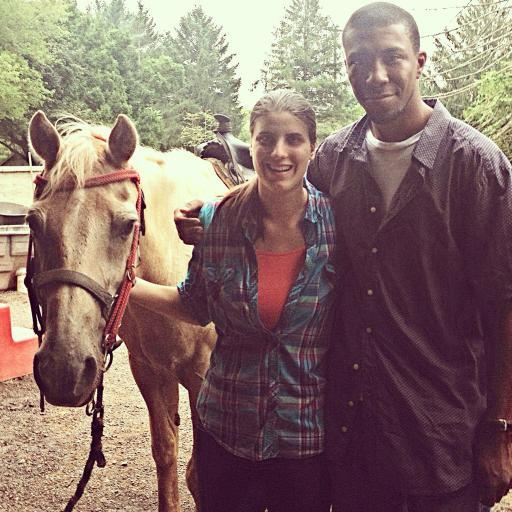Horse: (22, 111, 258, 511)
